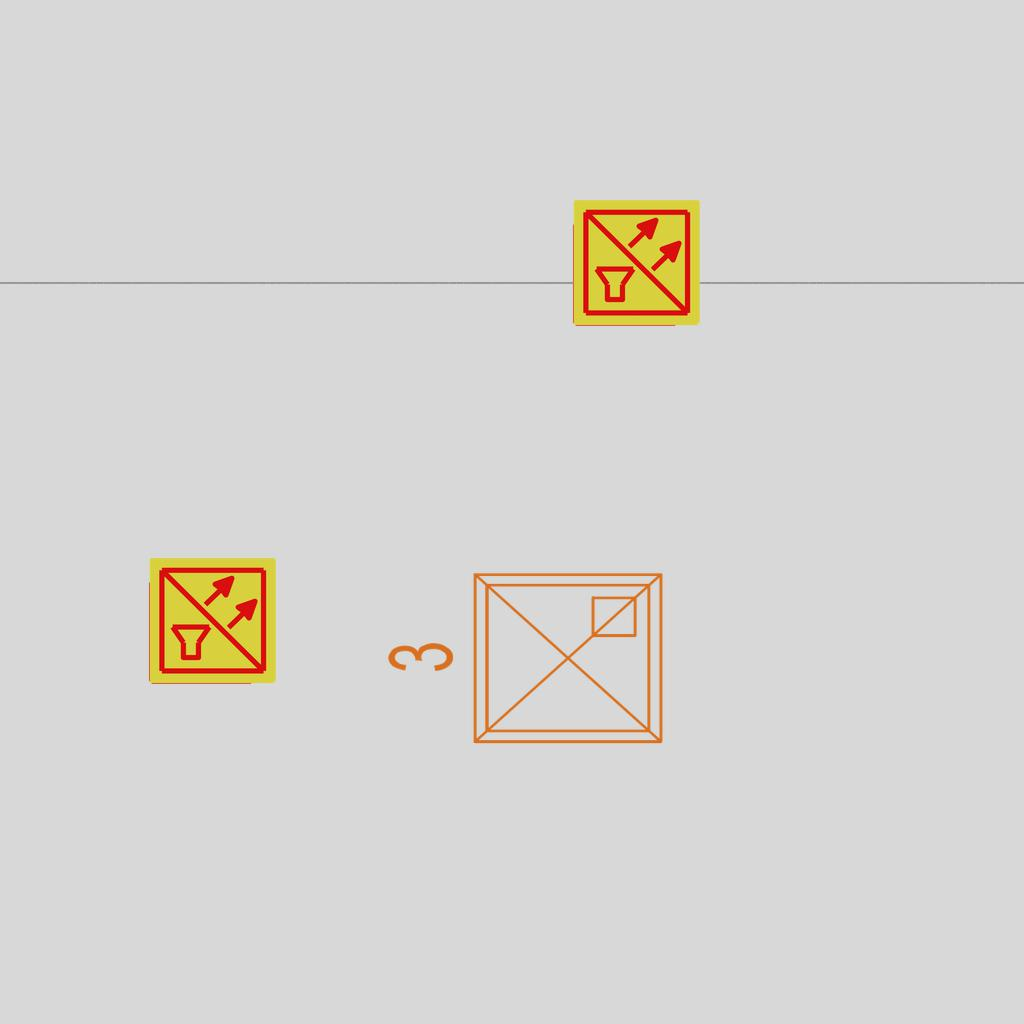Einbaudownlights_LED_Konferenzraeume: (377, 558, 677, 766)
OKW_Multisensormelder_(Kombination_optischer_Rauch-Kahlenmonoxid_Waerme-Melder): (147, 555, 279, 687), (571, 197, 703, 329)
